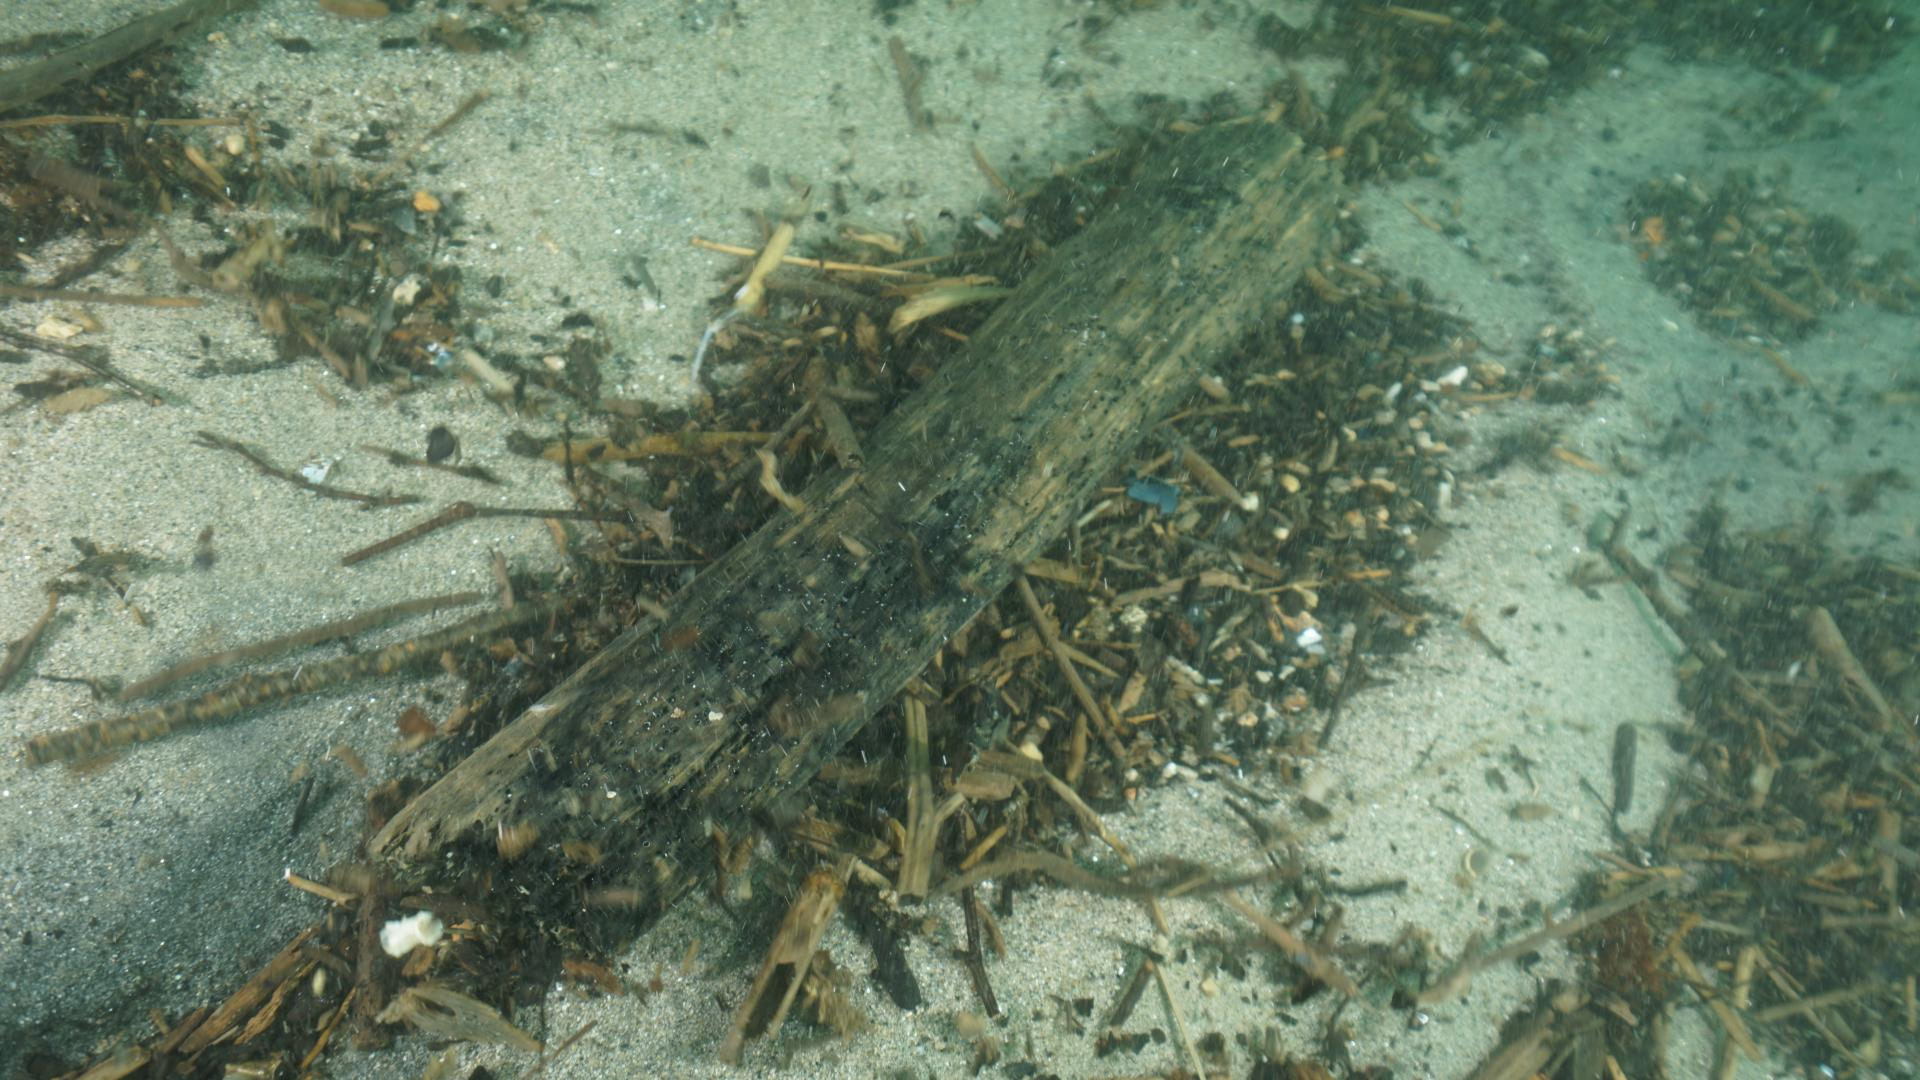wood: (364, 113, 1346, 938)
